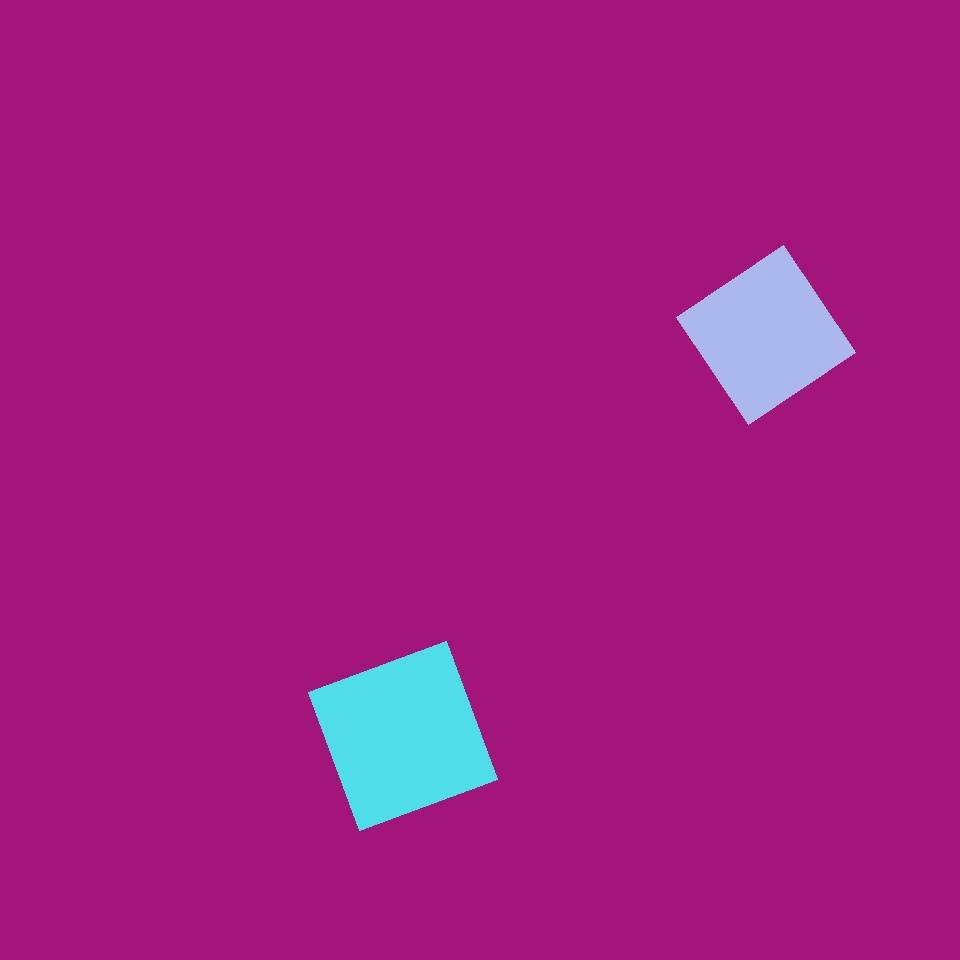circle: (536, 50, 831, 326), (292, 182, 549, 432), (162, 564, 379, 791), (359, 619, 551, 786)
square: (308, 642, 497, 830), (676, 246, 856, 424)
